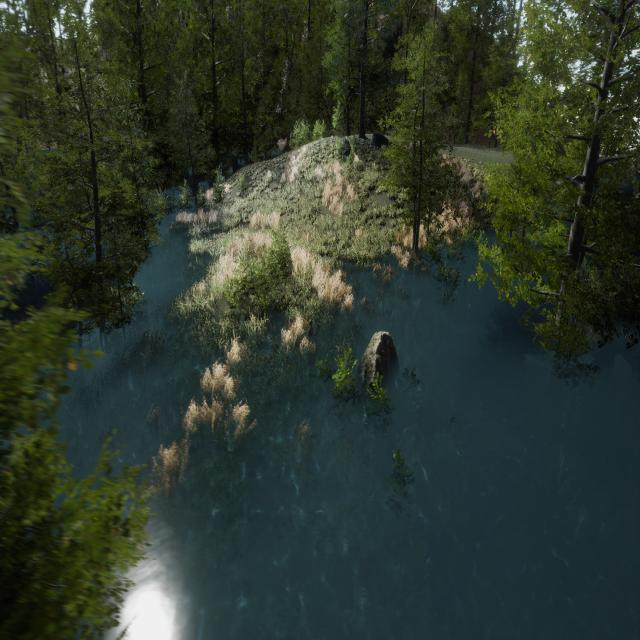Human: (304, 318, 321, 354)
